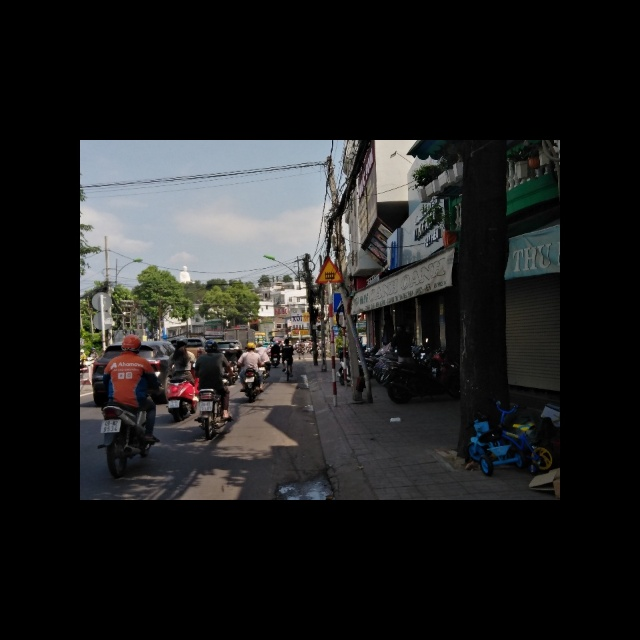Giao nhau với đường sắt có rào chắn: (314, 257, 343, 284)
